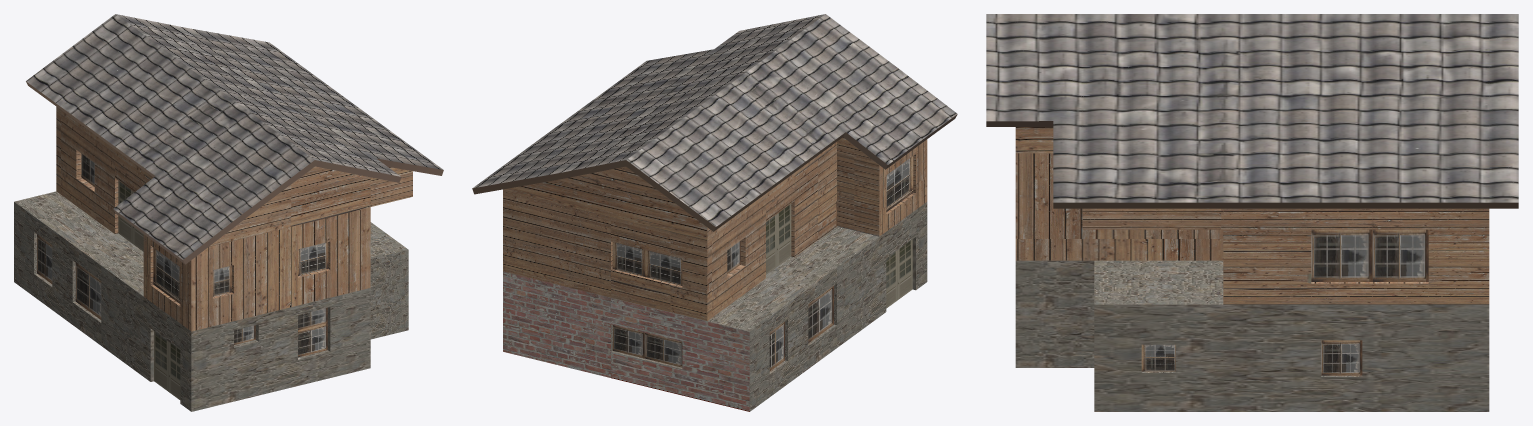
The model's file is sb_woodhouse_old_mj.fbx.
3 views of the same model, side by side, from view 1: azimuth 30°, elevation 25°; view 2: azimuth 150°, elevation 25°; view 3: azimuth 270°, elevation 25° (orthographic). The views are drawn at different scales.
Parts seen in each view (by area): view 1: sb_woodhouse_old_mj; view 2: sb_woodhouse_old_mj; view 3: sb_woodhouse_old_mj.
Boxes of the visible parts, box(x1,y1,x2,y2) form: sb_woodhouse_old_mj: box(14, 14, 443, 411); sb_woodhouse_old_mj: box(472, 14, 957, 411); sb_woodhouse_old_mj: box(986, 14, 1518, 411).
Bounding box in the file's own units: 11.17 × 8.68 × 13.49.
